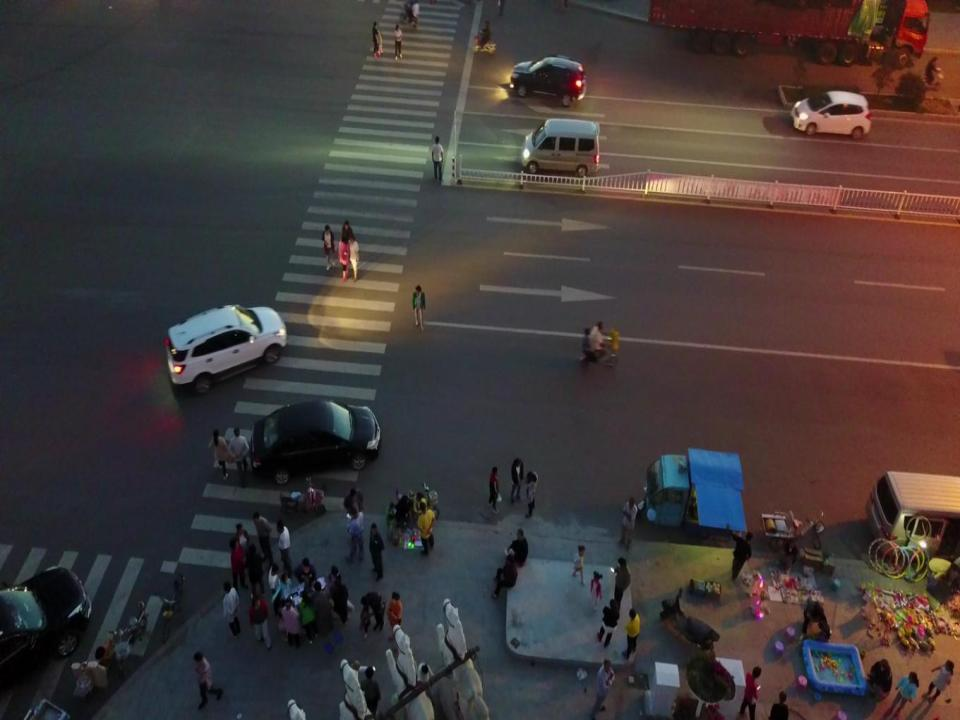car: (162, 299, 288, 398), (252, 399, 384, 489), (0, 564, 93, 672), (508, 53, 588, 108), (789, 89, 873, 141)
truck: (647, 0, 930, 69)
van: (864, 469, 960, 563), (518, 117, 602, 179)
